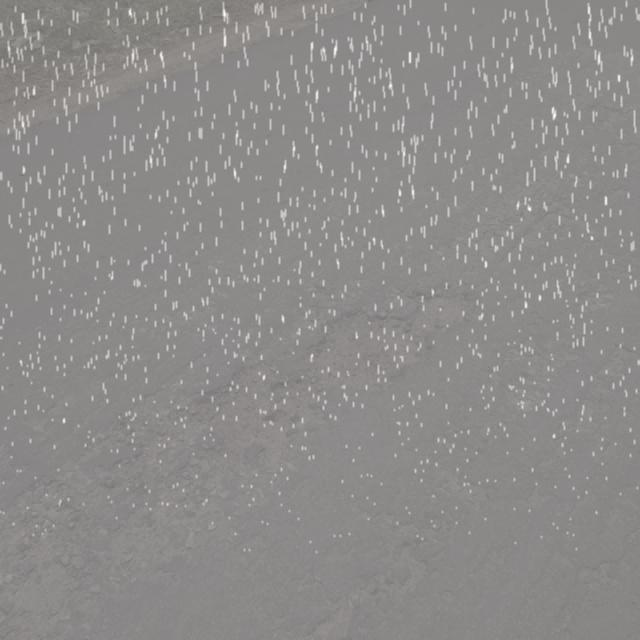Pothole: (49, 370, 245, 580), (282, 271, 465, 414)
